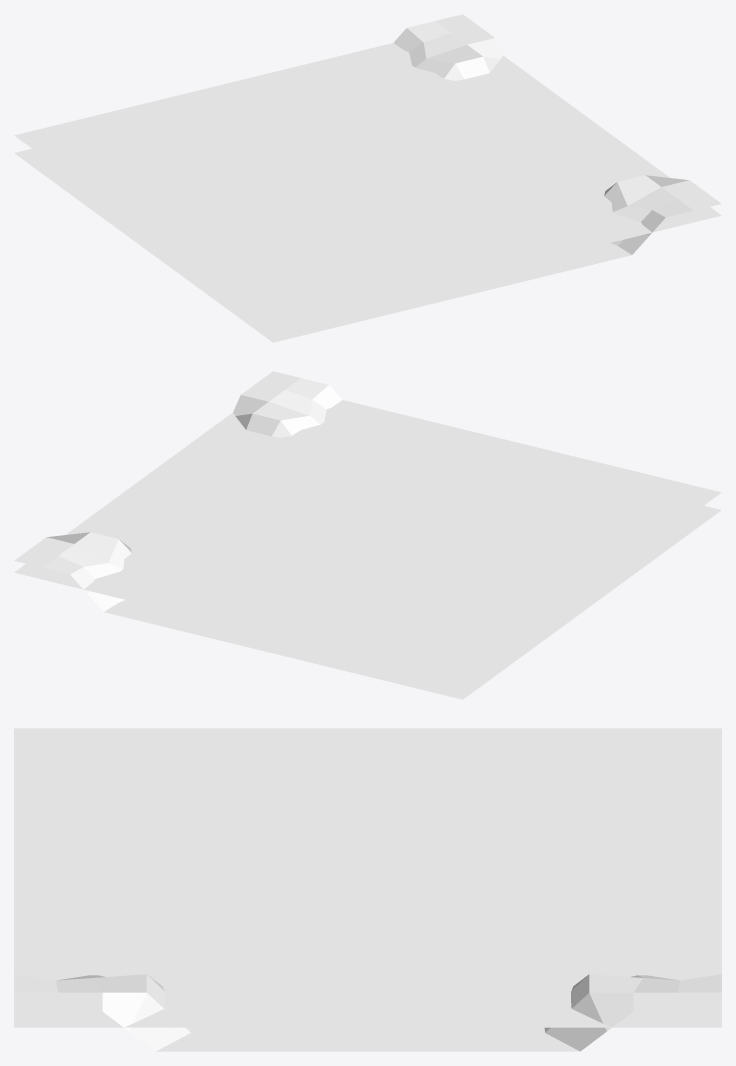
The model's file is ground.lake.shore.river.entrance.glb.
3 views of the same model, one above another, from view 1: azimuth 30°, elevation 25°; view 2: azimuth 150°, elevation 25°; view 3: azimuth 270°, elevation 25° (orthographic). The views are drawn at different scales.
Visible parts, largest first — view 1: ground.lake.shore.water.river.entrance, ground.lake.shore.river.entrance; view 2: ground.lake.shore.water.river.entrance, ground.lake.shore.river.entrance; view 3: ground.lake.shore.water.river.entrance, ground.lake.shore.river.entrance.
Part boxes in pixels (x1,y1,x2,y2): ground.lake.shore.water.river.entrance: (14, 43, 721, 324); ground.lake.shore.river.entrance: (14, 14, 721, 342); ground.lake.shore.water.river.entrance: (14, 400, 721, 681); ground.lake.shore.river.entrance: (14, 371, 721, 699); ground.lake.shore.water.river.entrance: (14, 728, 721, 1027); ground.lake.shore.river.entrance: (14, 974, 721, 1051).
Size of what is drawn, in the model's own units: 4 by 0.25 by 4.
Materials: 1 (1 with a texture image).
